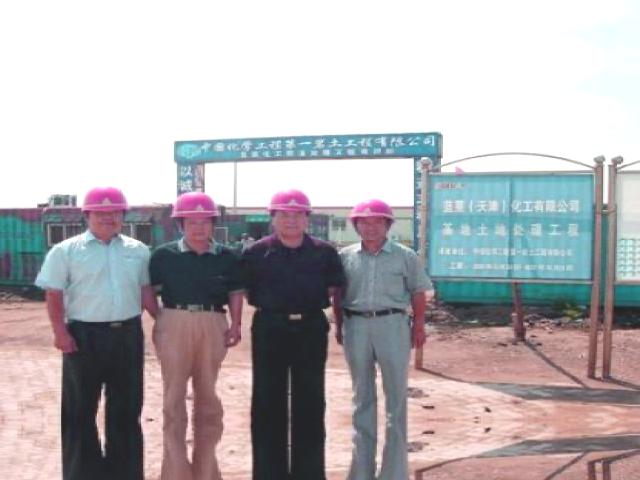Helmet: (75, 180, 131, 220), (166, 188, 223, 225), (341, 194, 400, 226), (262, 185, 314, 216)
